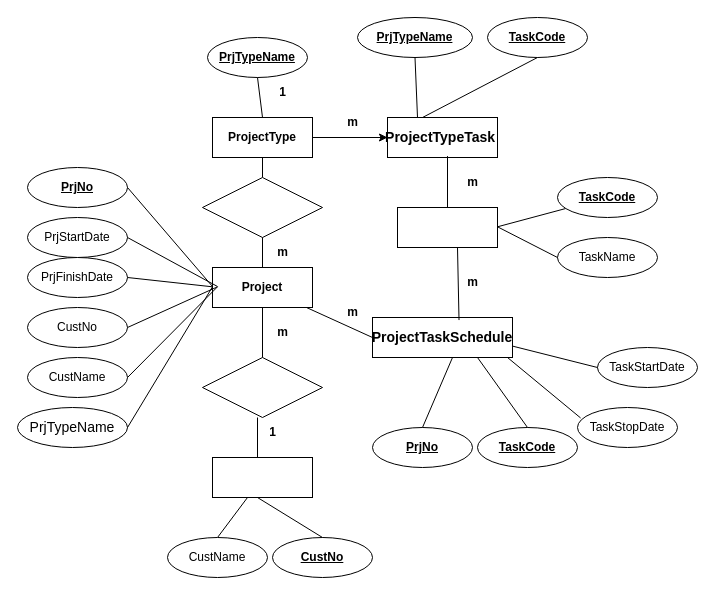
Image size: 715x603. Some labels were removed from this diagram. The centre of each missing label's shape, as x and y in pixels:
"Belong" goes at pixel 262 207.
"Customer" goes at pixel 262 477.
"have" goes at pixel 262 387.
"subtask" goes at pixel 447 227.
